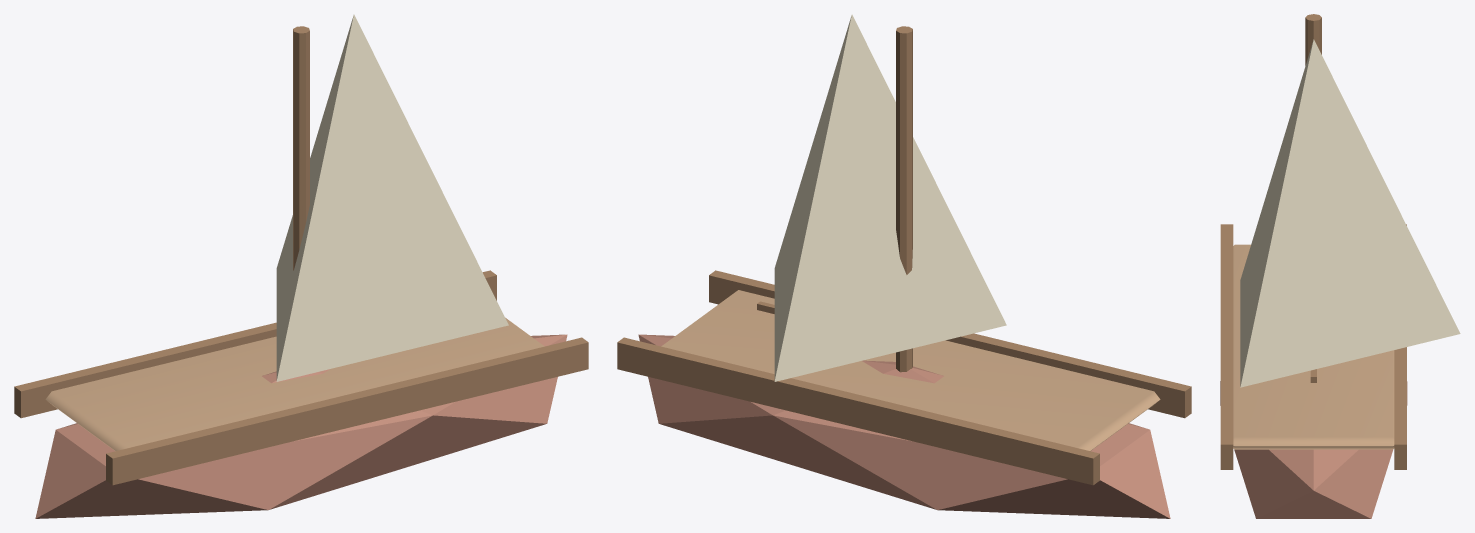
The model's file is coral-sailboat.glb.
The picture shows the model from 3 angles, left to right: view 1: azimuth 30°, elevation 25°; view 2: azimuth 150°, elevation 25°; view 3: azimuth 270°, elevation 25°; orthographic projection. The views are drawn at different scales.
Parts seen in each view (by area): view 1: Canvas sail, Faceted boat hull, Boat deck, Gunwale, Gunwale.001, Mast; view 2: Canvas sail, Faceted boat hull, Boat deck, Gunwale.001, Gunwale, Mast; view 3: Canvas sail, Boat deck, Faceted boat hull, Gunwale, Gunwale.001, Mast.
Part boxes in pixels (bbox=[...]): Canvas sail: bbox=[276, 14, 508, 381]; Faceted boat hull: bbox=[35, 334, 567, 518]; Boat deck: bbox=[45, 317, 544, 451]; Gunwale: bbox=[106, 337, 588, 485]; Gunwale.001: bbox=[14, 270, 496, 418]; Mast: bbox=[293, 26, 309, 270]; Canvas sail: bbox=[774, 14, 1006, 381]; Faceted boat hull: bbox=[638, 334, 1170, 518]; Boat deck: bbox=[661, 290, 1160, 451]; Gunwale.001: bbox=[617, 337, 1099, 485]; Gunwale: bbox=[709, 270, 1191, 418]; Mast: bbox=[896, 26, 912, 372]; Canvas sail: bbox=[1240, 39, 1460, 387]; Boat deck: bbox=[1233, 244, 1394, 449]; Faceted boat hull: bbox=[1220, 381, 1407, 518]; Gunwale: bbox=[1220, 224, 1233, 469]; Gunwale.001: bbox=[1394, 224, 1406, 469]; Mast: bbox=[1305, 14, 1321, 65].
Size of the model in its own units: 4.56 by 3.77 by 1.88.
